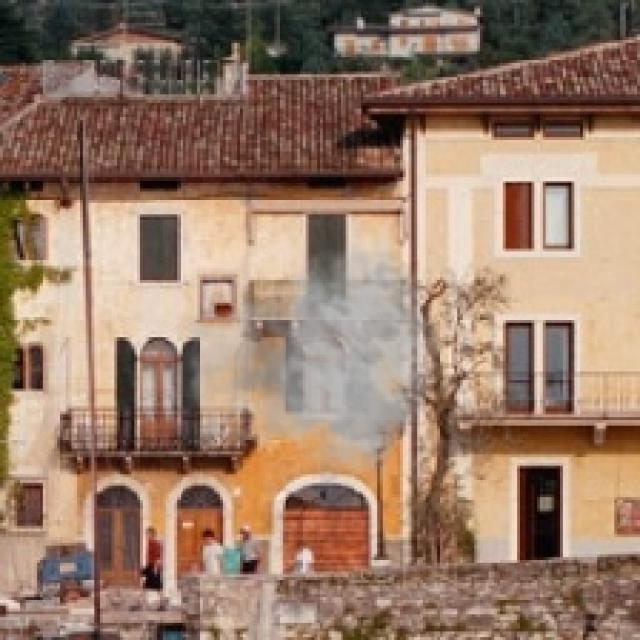smoke: (168, 234, 443, 497)
